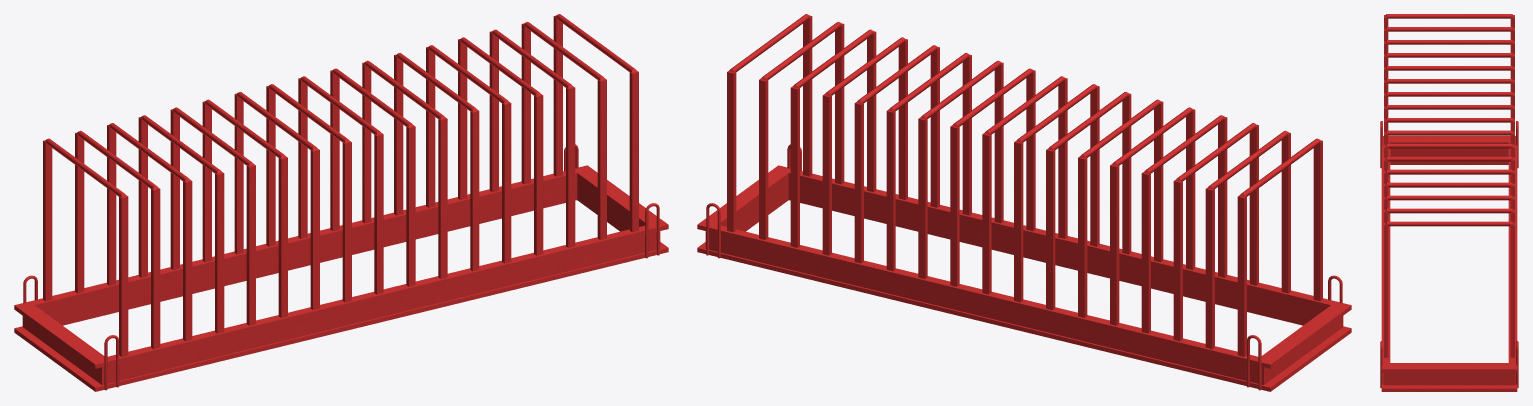
Rendered from Shield-storage-cassette.glb.
The picture shows the model from 3 angles, left to right: view 1: azimuth 30°, elevation 25°; view 2: azimuth 150°, elevation 25°; view 3: azimuth 270°, elevation 25°; orthographic projection. The views are drawn at different scales.
Visible parts, largest first — view 1: Shield_storage_cassette; view 2: Shield_storage_cassette; view 3: Shield_storage_cassette.
Part boxes in pixels (box(x1,y1,x2,y2)): Shield_storage_cassette: box(14, 14, 668, 391); Shield_storage_cassette: box(697, 14, 1351, 391); Shield_storage_cassette: box(1380, 14, 1518, 391).
Size of the model in its own units: 3.42 by 1.08 by 0.8558.
1 material, 1 textured.
